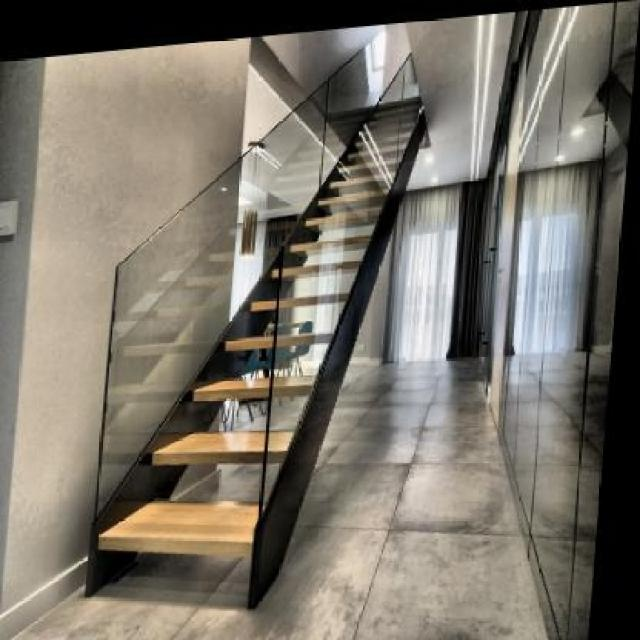stair: (101, 114, 415, 545)
